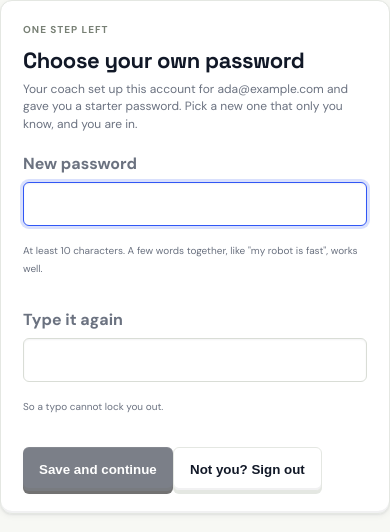
Test: PasswordSetupGate › explains a password that is too short and one that is the email address
This screenshot has width=390, height=532.
Type "short" into the password field labelled "New password".
click(195, 204); type("short")  # box [23, 182, 367, 226]
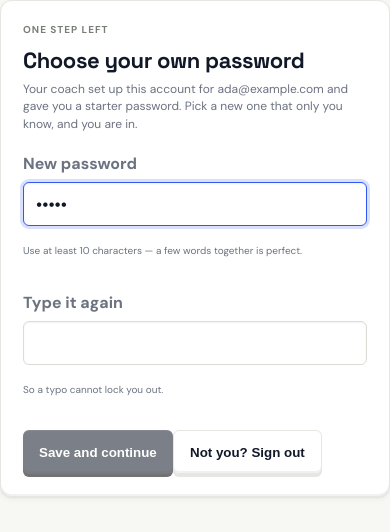
Expected: the text "at least 10 characters" is shown, [23, 244, 302, 257]
Type "ada@example.com" into the password field labelled "New password".
click(195, 204); type("ada@example.com")  # box [23, 182, 367, 226]
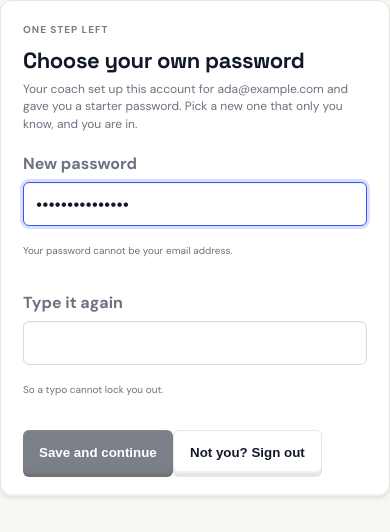
Expected: the text "Your password cannot be your email address." is shown, [23, 244, 232, 257]
